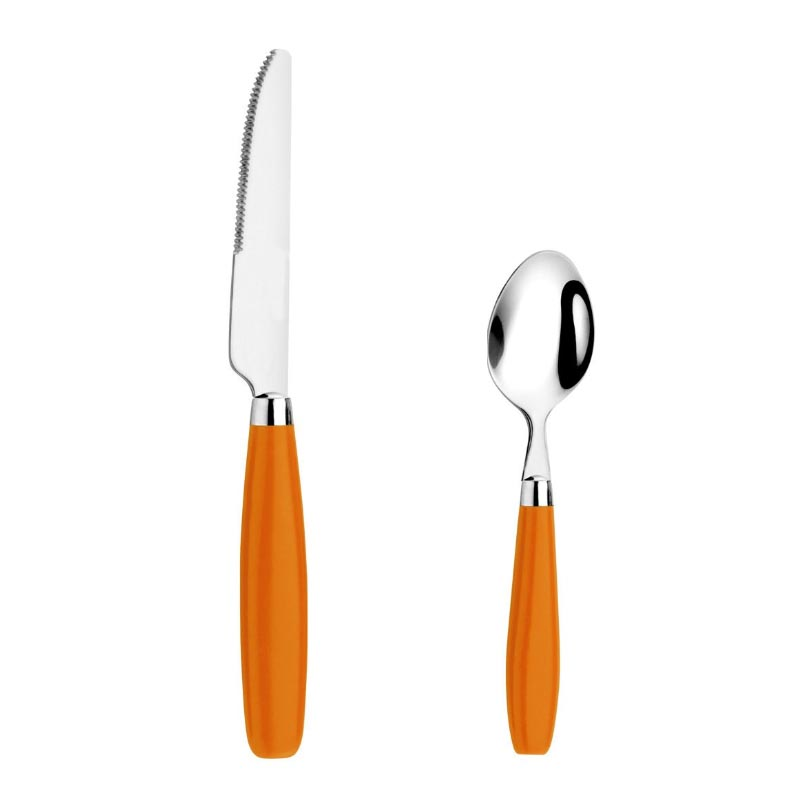Lyzka: (483, 248, 600, 423)
Noz: (226, 45, 295, 388)
